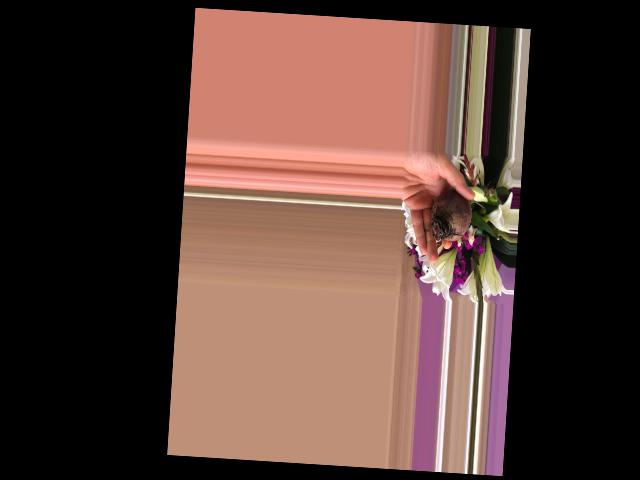beet: (429, 188, 485, 243)
